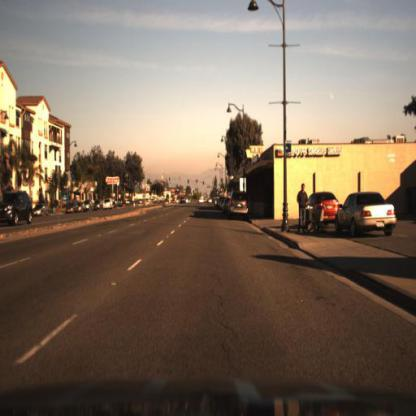car: (336, 193, 397, 240), (308, 189, 336, 232), (1, 193, 35, 228), (228, 189, 250, 221), (35, 202, 52, 220)
pedestrian: (296, 182, 311, 237)
